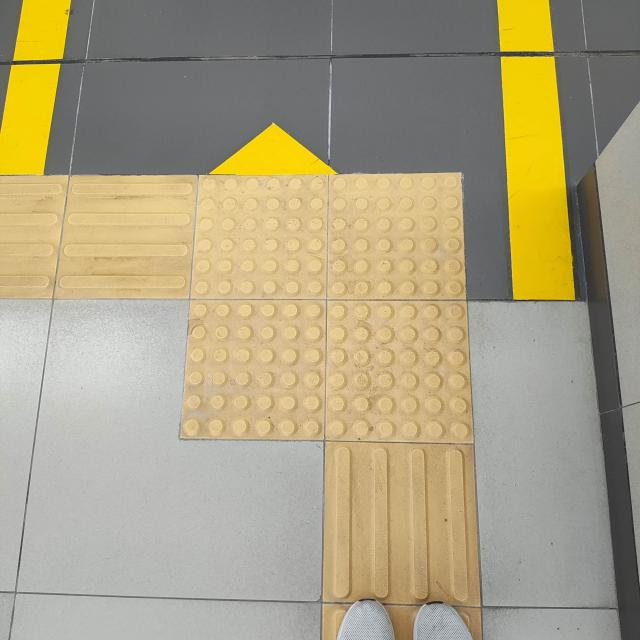kiri: (7, 100, 561, 537)
